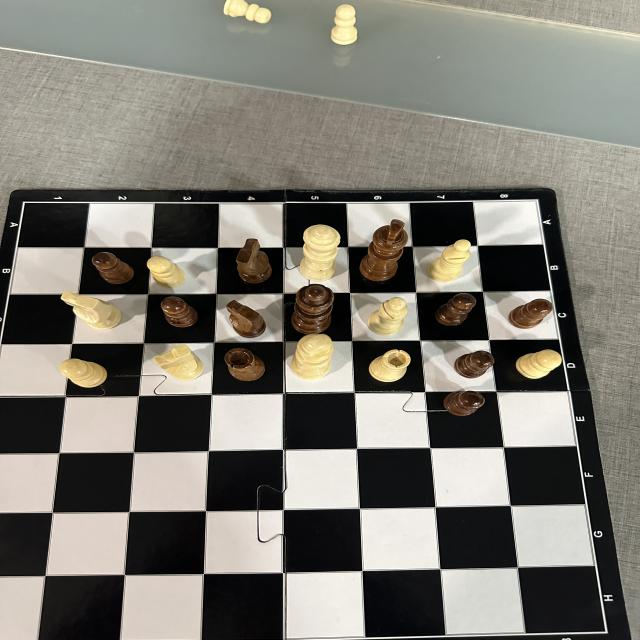Black-King: (359, 219, 408, 283)
Black-Knight: (236, 238, 273, 284), (225, 300, 268, 338)
Black-Pawn: (91, 252, 135, 285), (508, 299, 553, 329), (435, 294, 477, 326), (160, 296, 200, 328), (454, 351, 495, 378), (444, 390, 486, 416)
Black-Queen: (291, 284, 334, 334)
Black-Rook: (224, 347, 266, 382)
White-Bishop: (428, 240, 472, 284), (367, 297, 409, 337)
White-King: (291, 333, 335, 380)
White-Knight: (60, 291, 122, 331), (153, 344, 205, 380)
White-Pawn: (59, 359, 107, 388), (516, 350, 562, 380), (145, 256, 187, 288), (330, 4, 359, 46), (223, 0, 273, 24)
White-Queen: (299, 224, 342, 282)
White-Rook: (368, 349, 411, 383)
